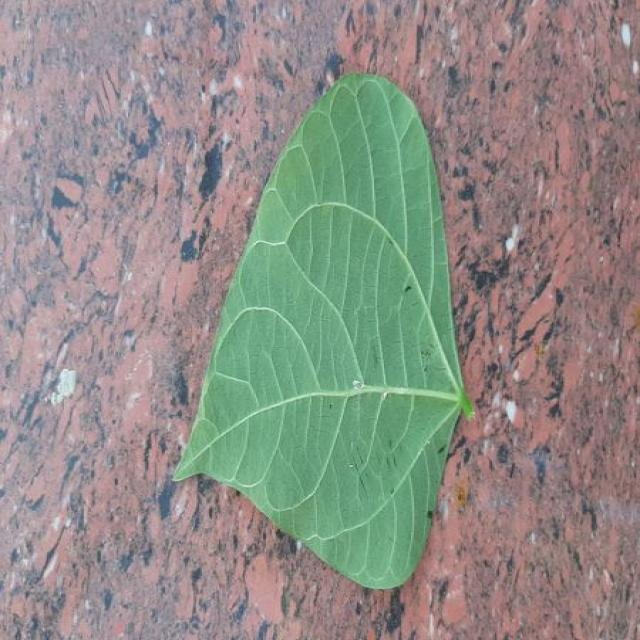beans: (175, 74, 472, 588)
